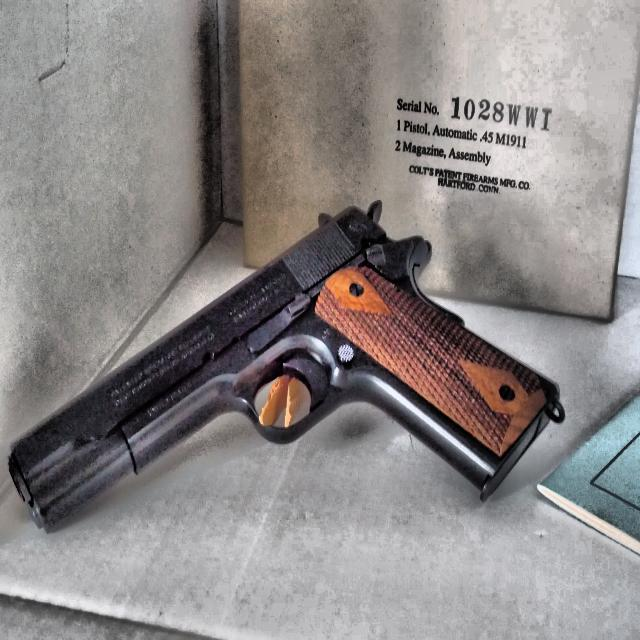Colt m1911: (6, 198, 565, 535)
